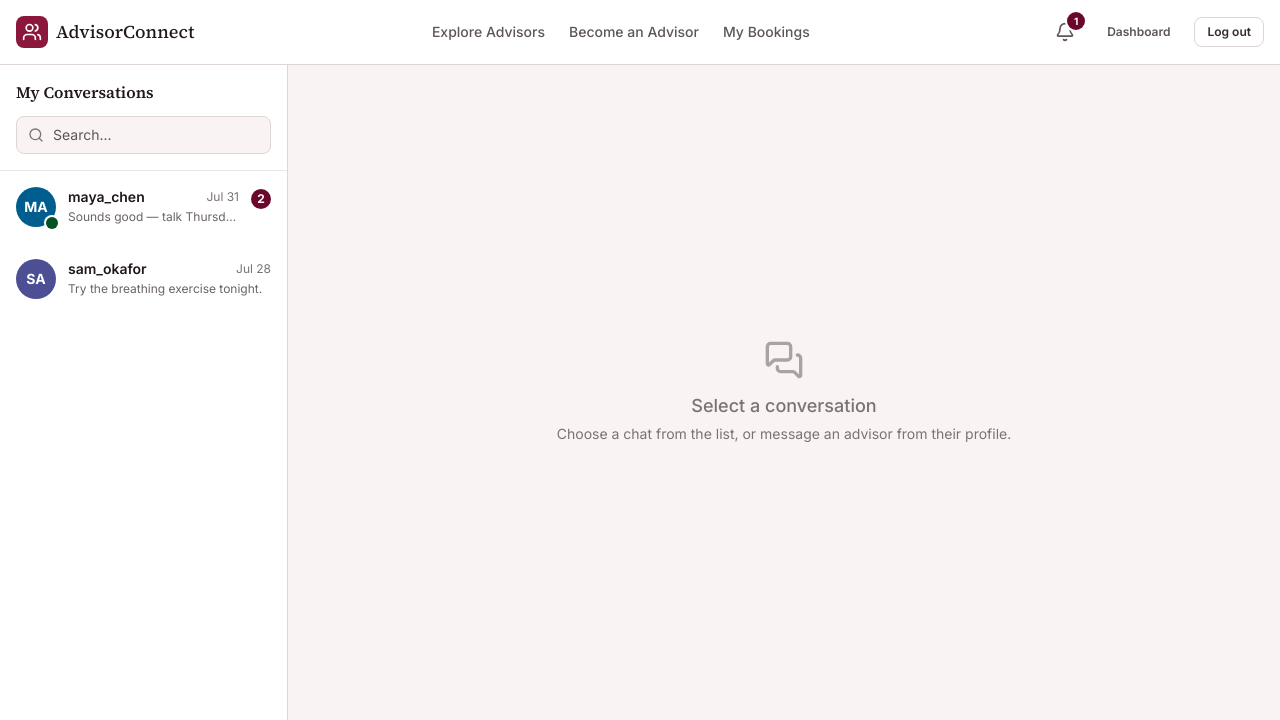
Test: ChatPage › conversation list › filters the list by advisor username
Expected: the button "MA maya_chen Jul 31 Sounds good — talk Thursday. 2" is shown, [0,171,287,243]
In the field named "Search conversations": (144, 135) [16,116,271,154], type "sam"
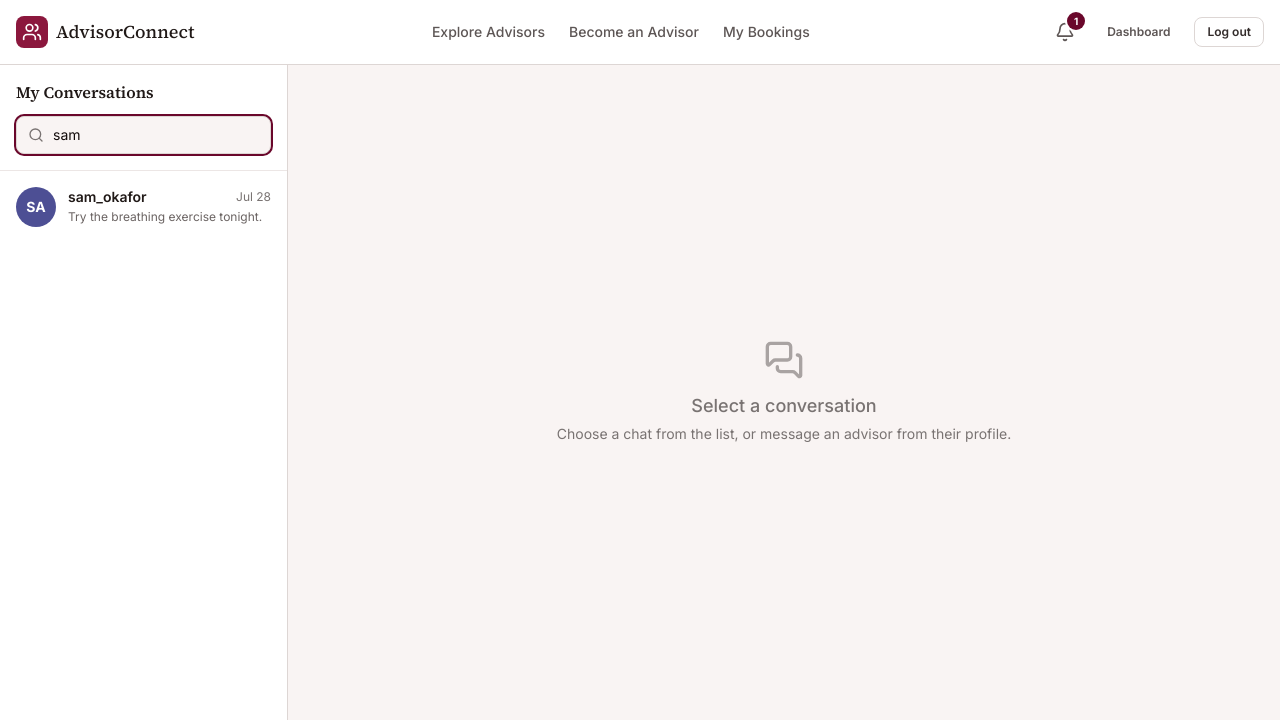
Expected: the text "sam_okafor" is shown, [68,187,147,207]
Result: the button "maya_chen" is gone
